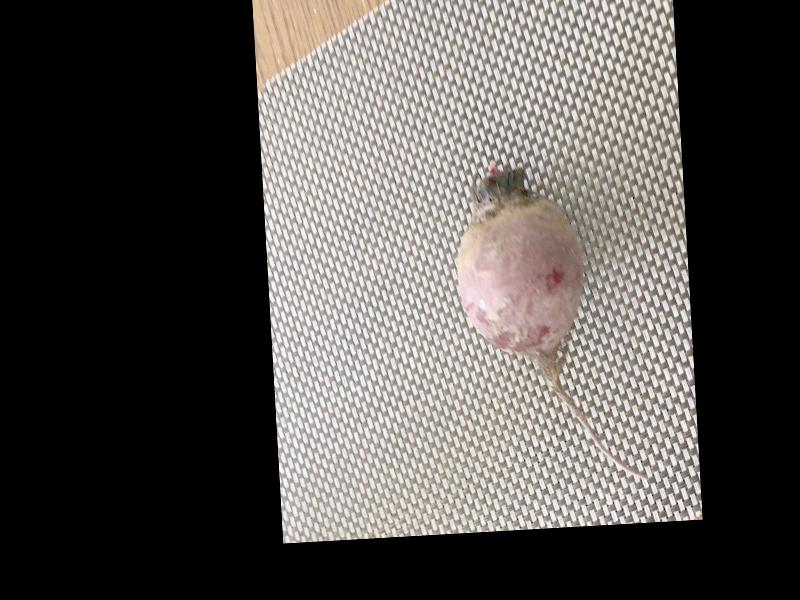Beet: (452, 152, 646, 490)
